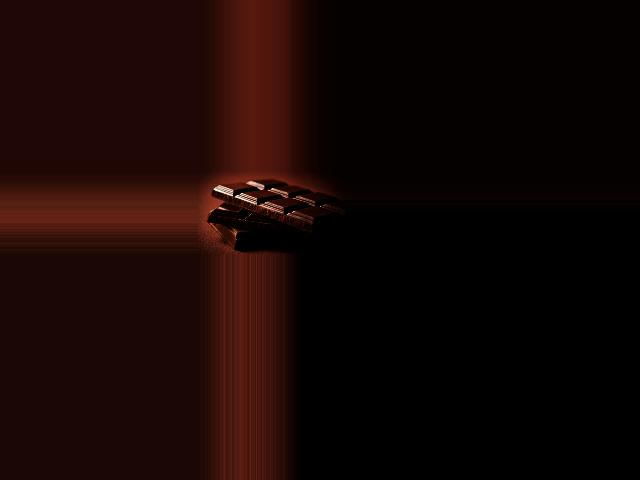chocolate: (208, 180, 341, 241)
